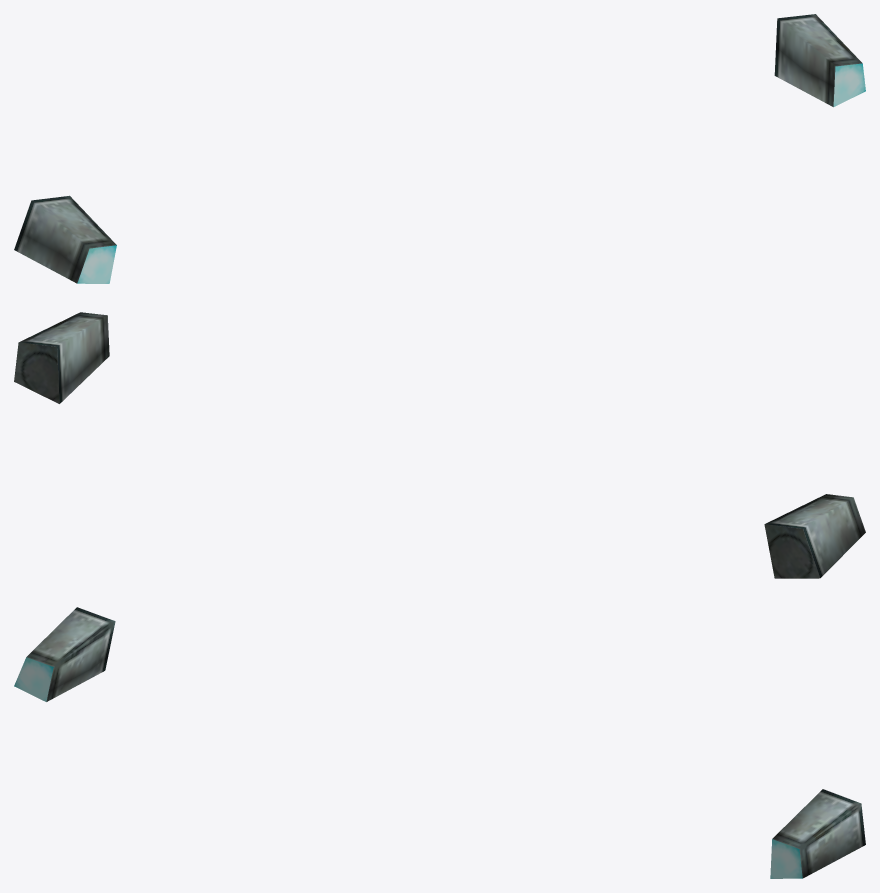
The model's file is hutt_fighter_medium_weapon2_s02_l3.fbx.
The picture shows the model from 3 angles, top to bottom: view 1: azimuth 30°, elevation 25°; view 2: azimuth 150°, elevation 25°; view 3: azimuth 330°, elevation 25°; orthographic projection.
Parts seen in each view (by area): view 1: mesh_node; view 2: mesh_node; view 3: mesh_node.
Part boxes in pixels (left/top/right/bottom): mesh_node: left=14, top=14, right=865, bottom=283; mesh_node: left=14, top=312, right=865, bottom=578; mesh_node: left=14, top=607, right=865, bottom=878.
Size of the model in its own units: 3.26 by 0.2198 by 0.3817.
Materials: 1 (1 with a texture image).
